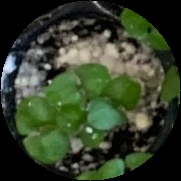Basil: (16, 99, 68, 163), (86, 76, 140, 129), (52, 62, 109, 99), (61, 103, 103, 145)
